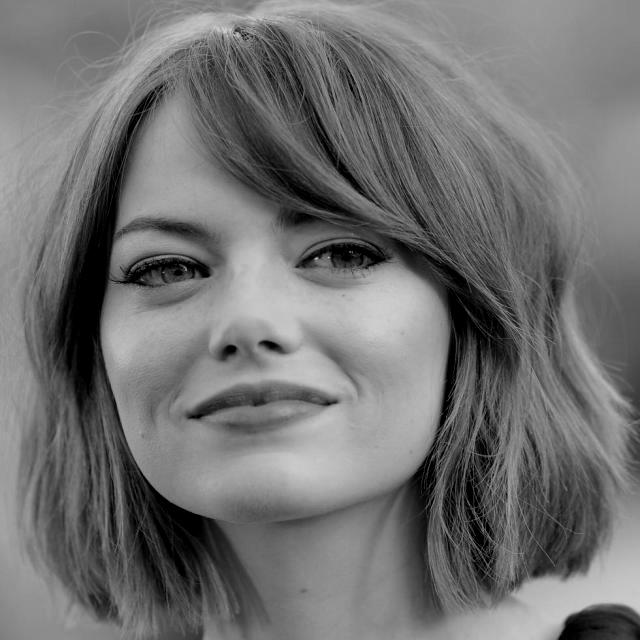real: (46, 8, 510, 544)
